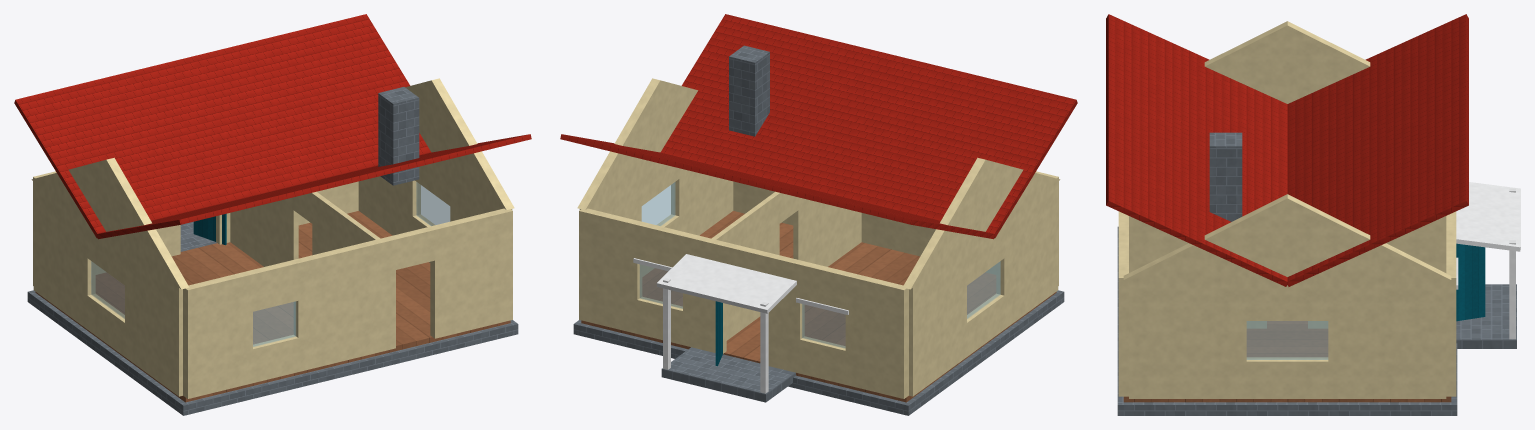
The model's file is env_house_a.glb.
3 views of the same model, side by side, from view 1: azimuth 30°, elevation 25°; view 2: azimuth 150°, elevation 25°; view 3: azimuth 270°, elevation 25° (orthographic). The views are drawn at different scales.
Parts seen in each view (by area): view 1: env_house_a; view 2: env_house_a; view 3: env_house_a.
Boxes of the visible parts, x1,y1,x2,y2 form: env_house_a: (14,14,531,415); env_house_a: (560,14,1077,415); env_house_a: (1106,14,1520,415).
Bounding box in the file's own units: 10.8 × 6.45 × 10.13.
7 materials, 6 textured.
